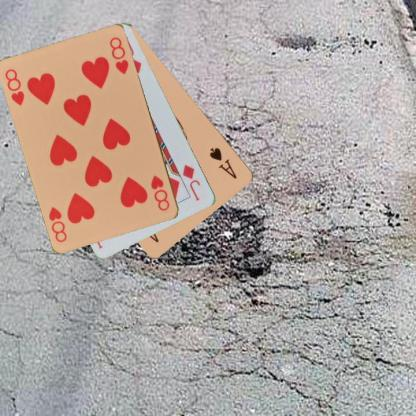8h: (2, 66, 27, 108), (148, 173, 172, 212)
As: (207, 144, 238, 180)
Jd: (180, 162, 202, 203)
